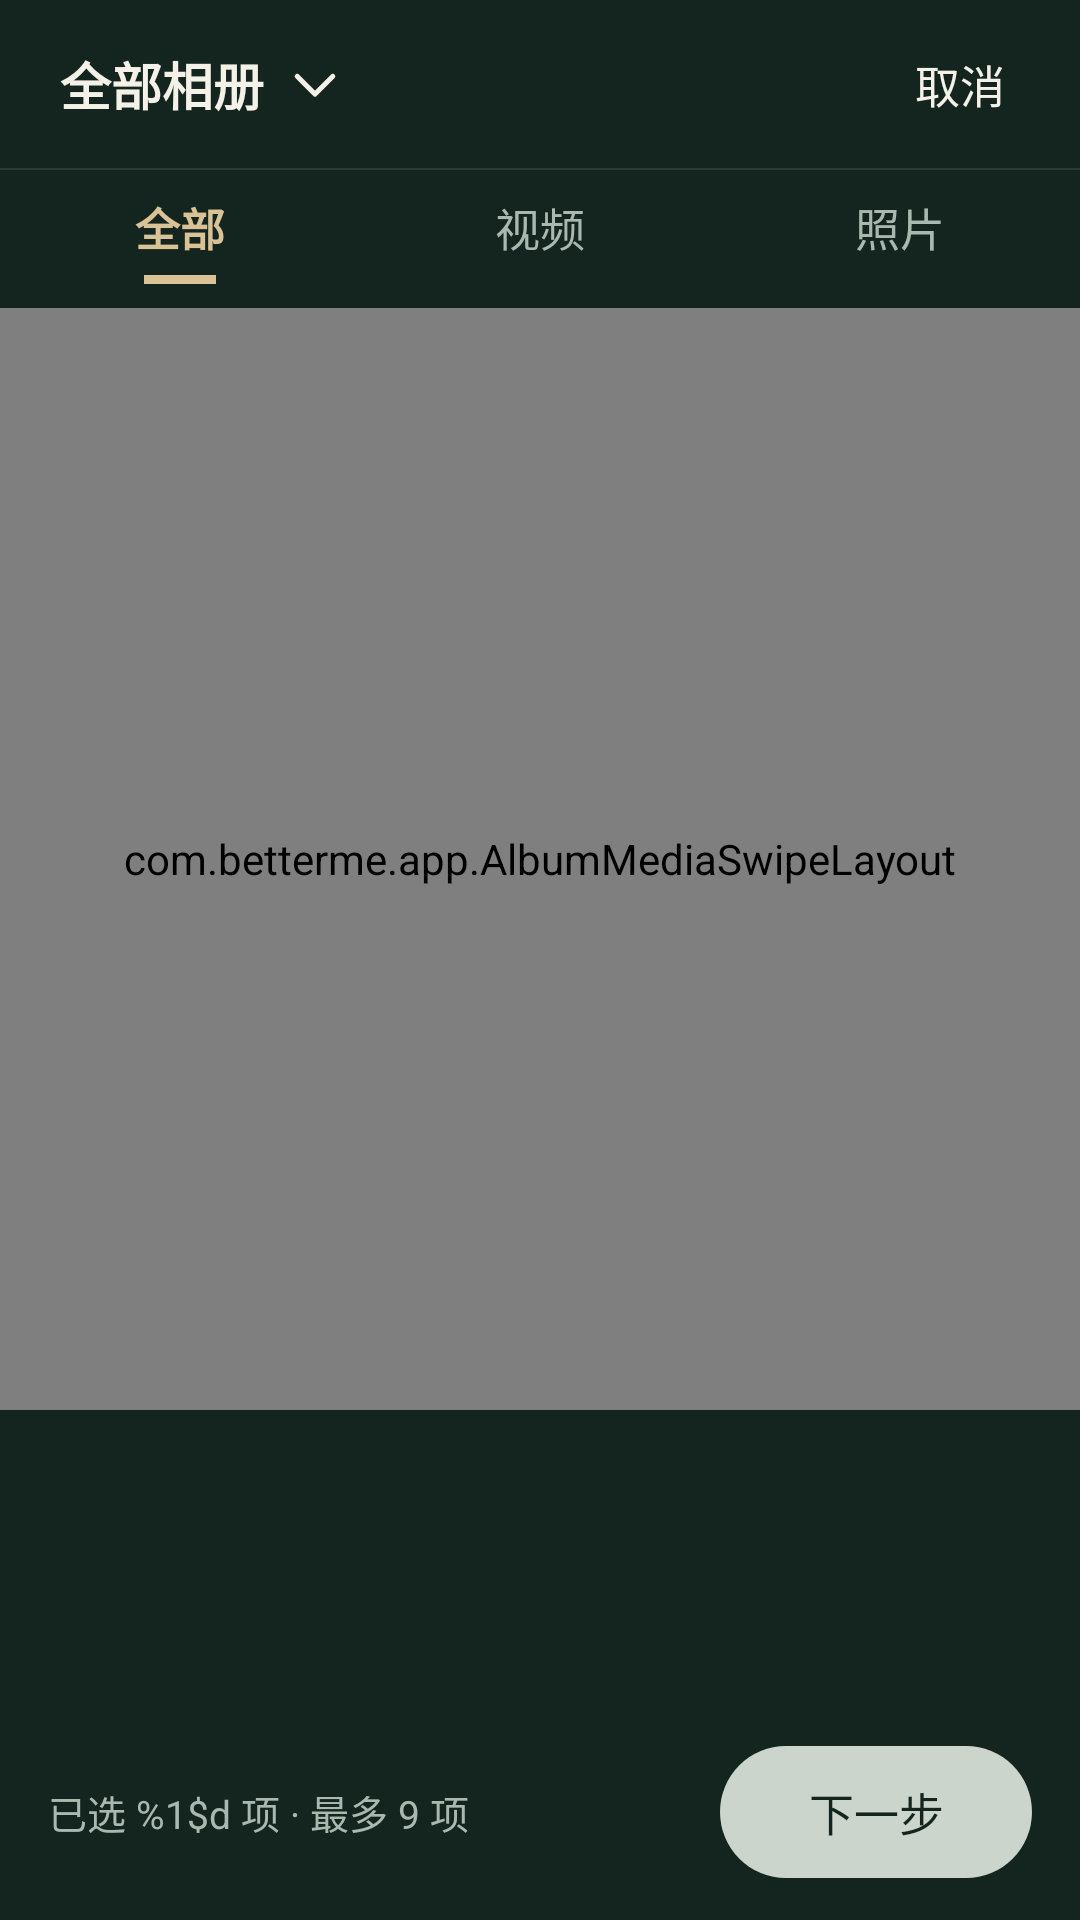

Named icons in this screenshot (1080×1920) and their centers, (x,y):
album dropdown: (315,85)
